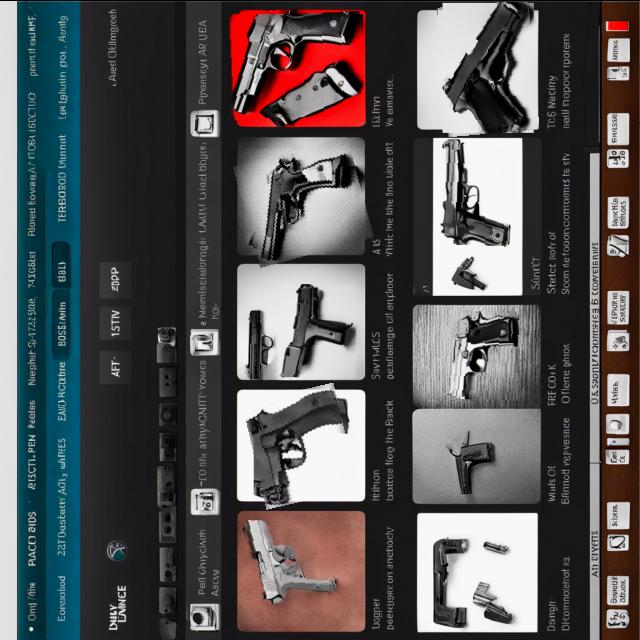gun: (227, 10, 361, 119), (245, 382, 343, 508), (444, 0, 531, 132), (258, 147, 352, 262), (246, 519, 336, 607), (440, 138, 509, 245), (278, 283, 357, 376), (449, 311, 520, 396)
